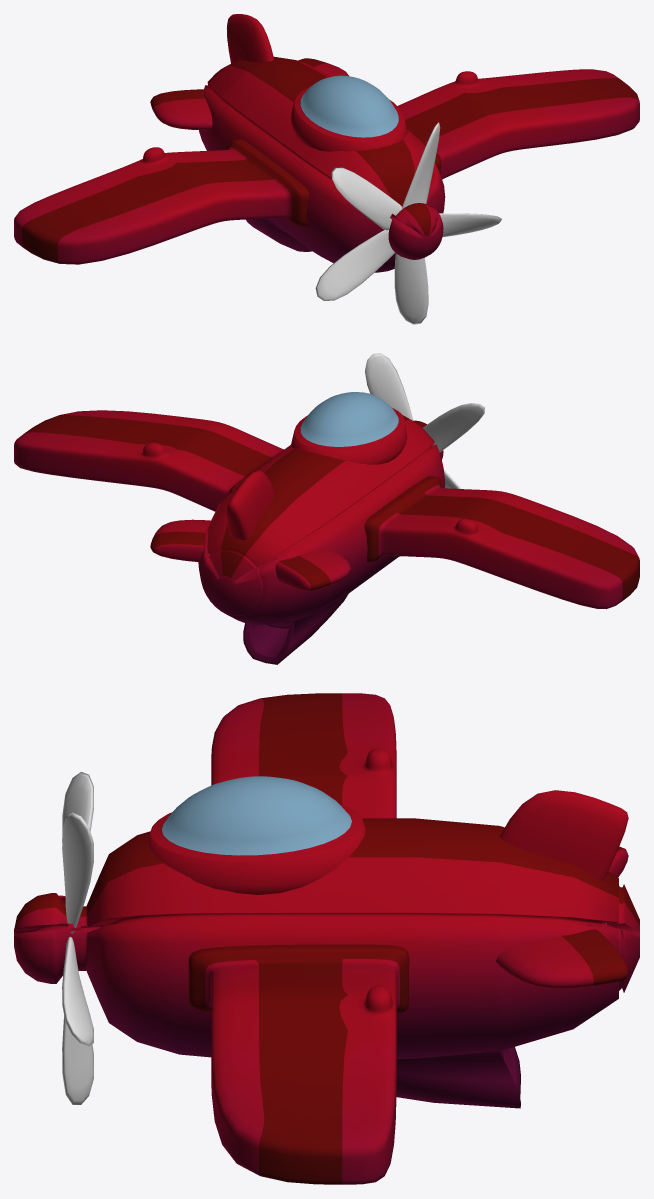
The picture shows the model from 3 angles, top to bottom: view 1: azimuth 30°, elevation 25°; view 2: azimuth 150°, elevation 25°; view 3: azimuth 270°, elevation 25°; orthographic projection. The views are drawn at different scales.
Visible parts, largest first — view 1: Sphere.007, Cube.017; view 2: Sphere.007, Cube.017; view 3: Sphere.007, Cube.017.
Boxes of the visible parts, left/top/right/bottom form: Sphere.007: left=14, top=14, right=639, bottom=272; Cube.017: left=315, top=122, right=501, bottom=324; Sphere.007: left=14, top=392, right=639, bottom=664; Cube.017: left=365, top=353, right=484, bottom=556; Sphere.007: left=14, top=693, right=639, bottom=1184; Cube.017: left=62, top=772, right=93, bottom=1104.
Size of the model in its own units: 899 by 291 by 519.
